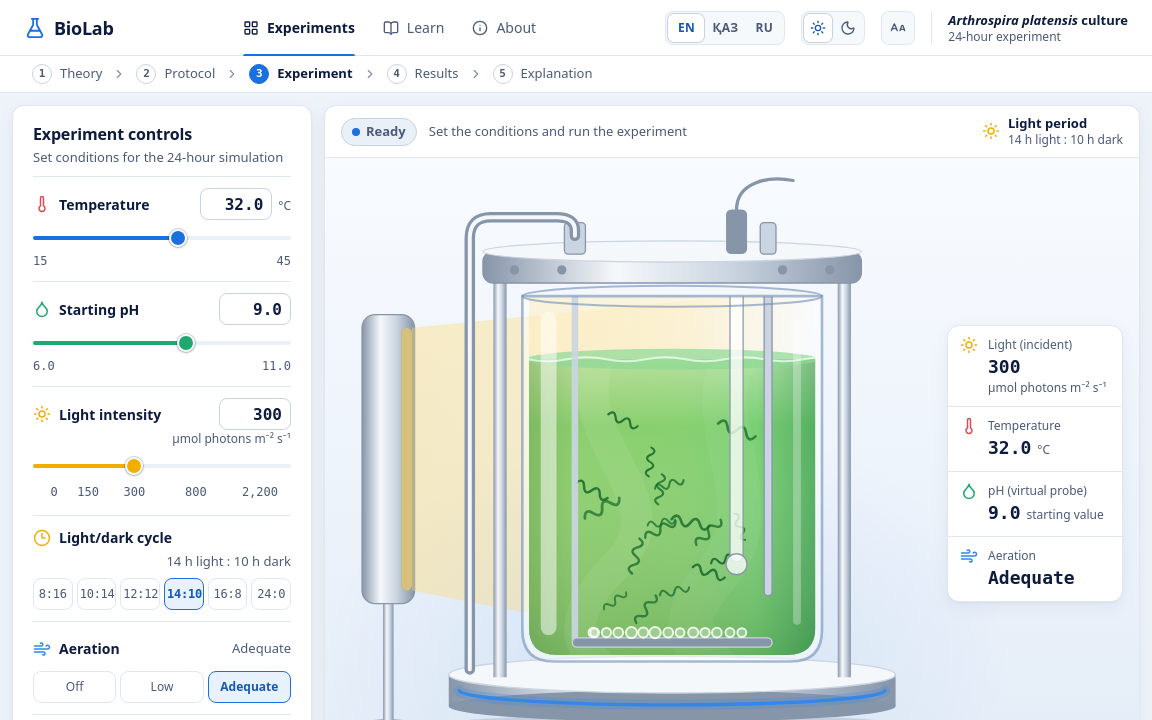
Test case: T9 Lab Tutor › is a working, honestly labelled tutor in Learn, with chips and no text box
This screenshot has width=1152, height=720.
Click the link "Learn" at [414, 28], box [383, 18, 444, 37]
(page scrolled)
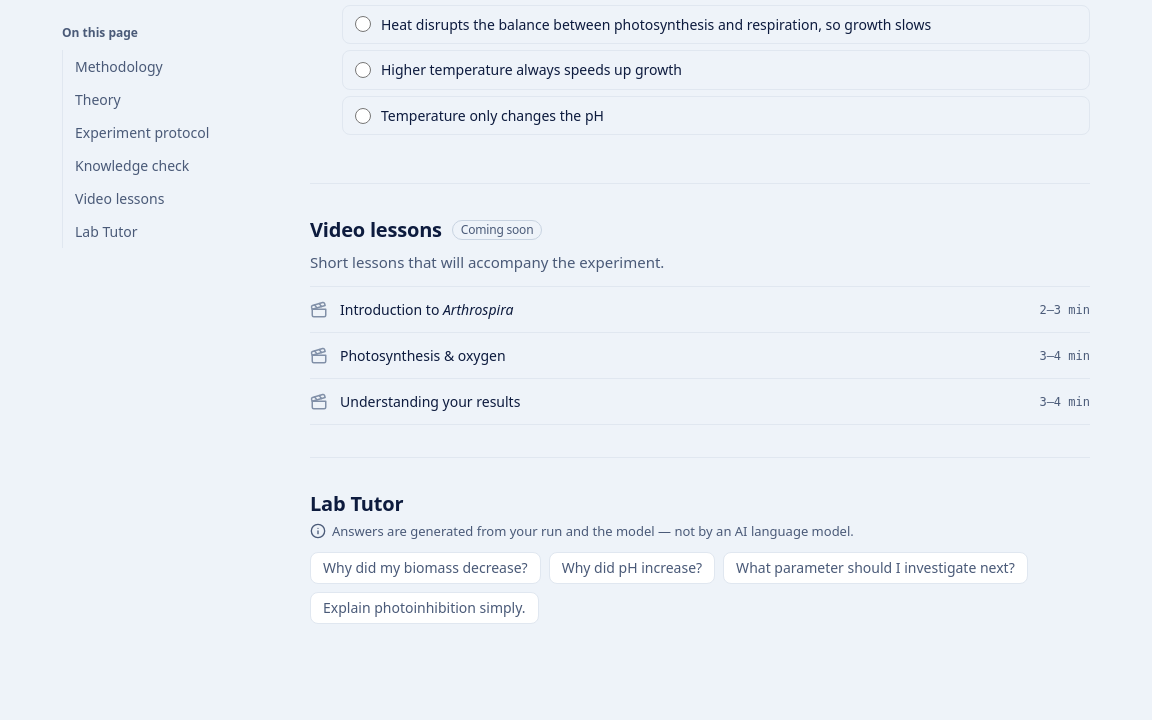
Expected: the text "Answers are generated from your run and the model — not by an AI language model." is shown, [332, 522, 854, 540]
Expected: the field is gone
Expected: the link "Lab Tutor" is shown, [75, 222, 138, 241]
Click the button "Why did my biomass decrease?" at [425, 568], box [310, 552, 541, 584]
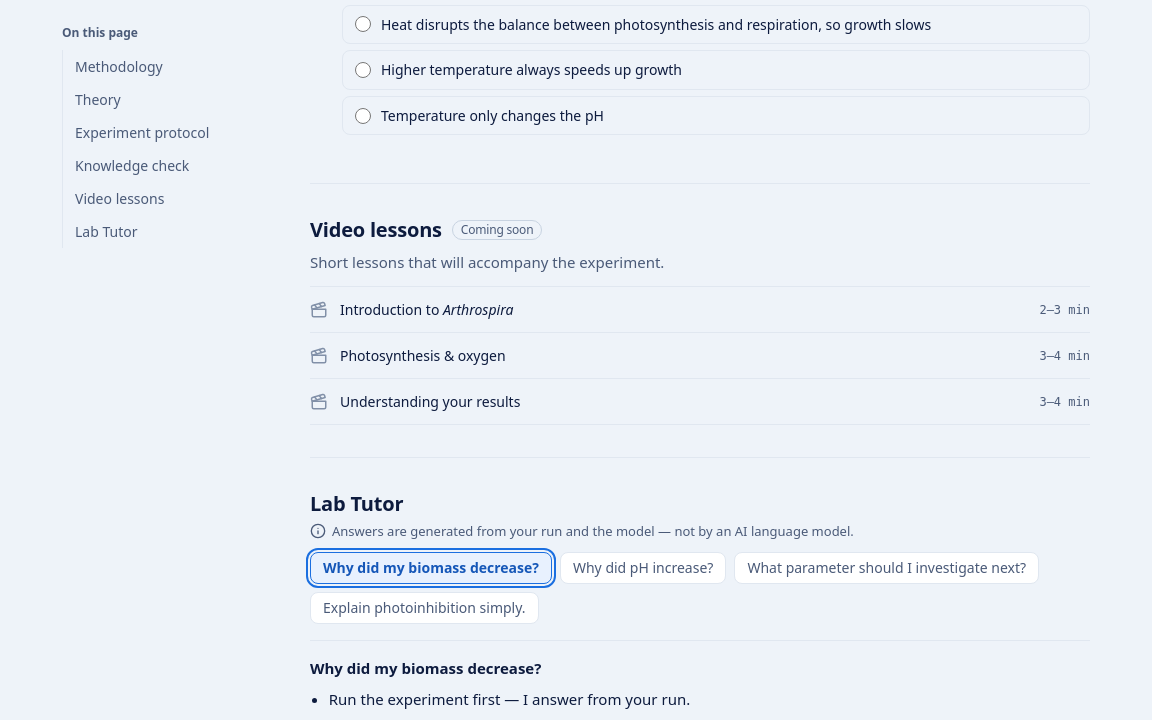
Expected: the text "Run the experiment first — I answer from your run." is shown, [329, 689, 690, 709]
